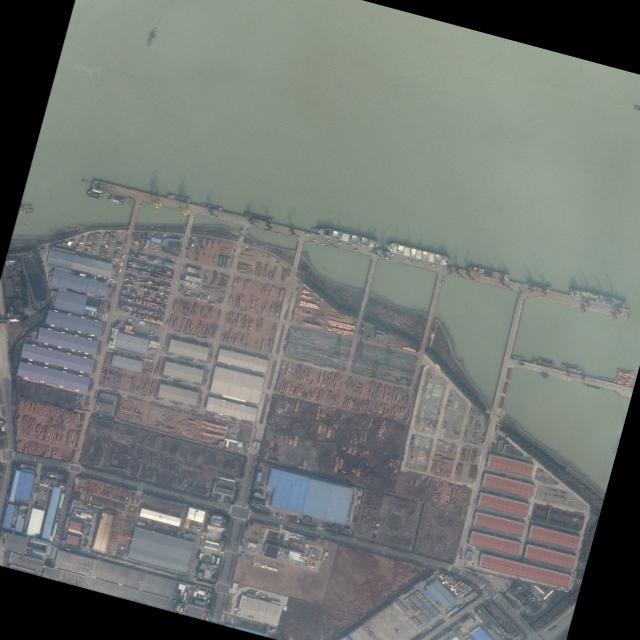large-vehicle: (632, 104, 640, 111), (505, 584, 510, 588), (75, 548, 81, 551), (253, 454, 257, 458), (59, 527, 62, 532), (94, 390, 97, 395), (87, 397, 90, 402), (254, 459, 257, 464), (250, 466, 253, 471), (253, 459, 255, 465), (251, 467, 253, 473), (250, 473, 252, 479), (83, 416, 85, 421), (70, 483, 72, 488), (131, 566, 136, 568), (248, 480, 250, 485), (251, 461, 253, 466), (249, 471, 251, 476), (93, 396, 95, 400), (86, 403, 88, 407), (61, 522, 63, 526), (247, 485, 249, 489), (249, 490, 250, 495)
ship: (385, 241, 452, 266), (317, 226, 379, 249), (569, 287, 628, 309), (466, 264, 510, 281), (243, 212, 275, 223), (526, 280, 552, 291), (166, 193, 191, 203), (531, 359, 555, 369), (146, 27, 157, 46), (201, 202, 223, 211), (583, 383, 603, 390), (561, 363, 580, 370), (107, 197, 123, 205), (85, 192, 101, 200), (615, 368, 635, 374), (561, 367, 581, 373), (111, 193, 127, 200), (87, 190, 103, 197), (538, 357, 554, 364), (109, 195, 124, 202), (88, 188, 105, 194), (18, 208, 34, 214), (598, 375, 611, 381), (19, 204, 32, 209), (540, 371, 549, 378), (513, 355, 524, 360), (561, 377, 570, 380)
small-vehicle: (287, 536, 289, 538), (270, 510, 272, 512), (334, 334, 336, 335), (154, 248, 156, 249), (521, 305, 522, 307), (520, 309, 521, 311), (518, 317, 519, 319), (153, 246, 155, 247), (154, 247, 156, 248), (271, 510, 272, 512), (153, 250, 155, 251), (157, 249, 159, 250), (159, 244, 161, 245), (159, 245, 161, 246), (180, 238, 182, 239), (180, 237, 182, 238), (158, 248, 160, 249), (521, 303, 522, 305), (247, 459, 248, 461), (517, 303, 518, 305), (517, 301, 518, 303), (536, 296, 538, 297), (493, 437, 495, 438), (493, 438, 495, 439), (471, 565, 473, 566), (468, 566, 469, 568), (465, 566, 466, 568), (463, 566, 465, 567), (472, 562, 474, 563), (286, 531, 288, 532), (286, 530, 287, 532), (280, 516, 281, 518), (279, 516, 280, 518), (278, 516, 279, 518), (520, 308, 521, 309), (519, 313, 520, 314), (155, 245, 156, 246), (155, 245, 156, 246), (155, 246, 156, 247), (494, 436, 495, 437), (523, 298, 524, 299), (181, 239, 182, 240), (153, 247, 154, 248), (160, 250, 161, 251), (159, 246, 160, 247), (159, 247, 160, 248), (463, 561, 464, 562), (464, 566, 465, 567), (472, 564, 473, 565), (467, 567, 468, 568), (269, 510, 270, 511), (287, 531, 288, 532), (281, 517, 282, 518), (525, 297, 526, 298), (155, 247, 156, 247), (159, 246, 161, 246), (159, 248, 160, 248), (493, 440, 494, 440)
